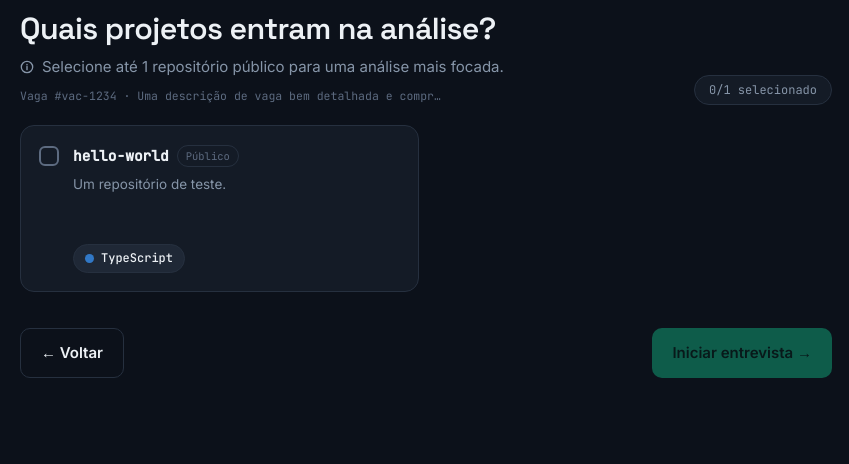
Test: RepositoryChooserPage - startInterview › shows an error and re-offers skip when creation fails
Click the checkbox named "octocat/hello-world".
click(220, 209)  # box [20,125,419,292]
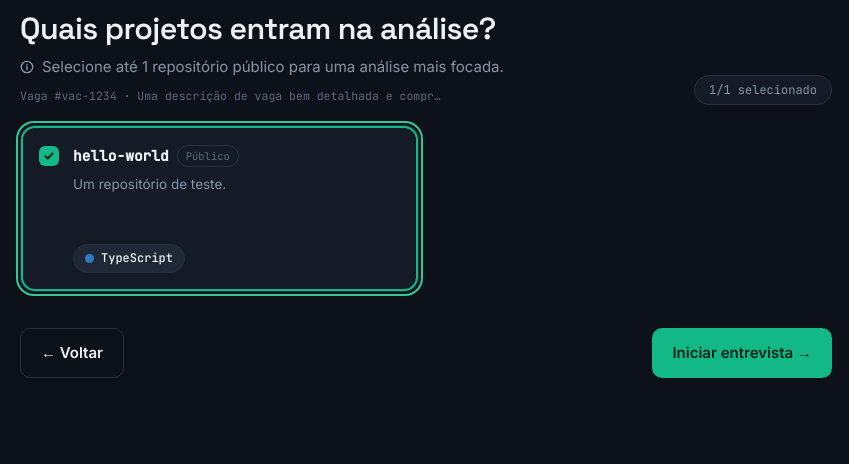
Click the button "Iniciar entrevista →".
click(742, 354)  # box [652,328,832,378]
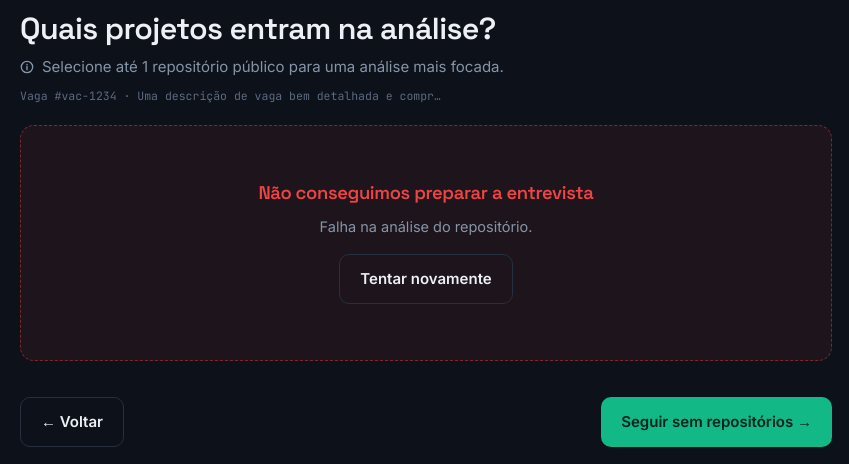
Expected: the text "Falha na análise do repositório." is shown, [320,216,532,238]
Expected: the button "Seguir sem repositórios →" is shown, [601,397,832,447]
